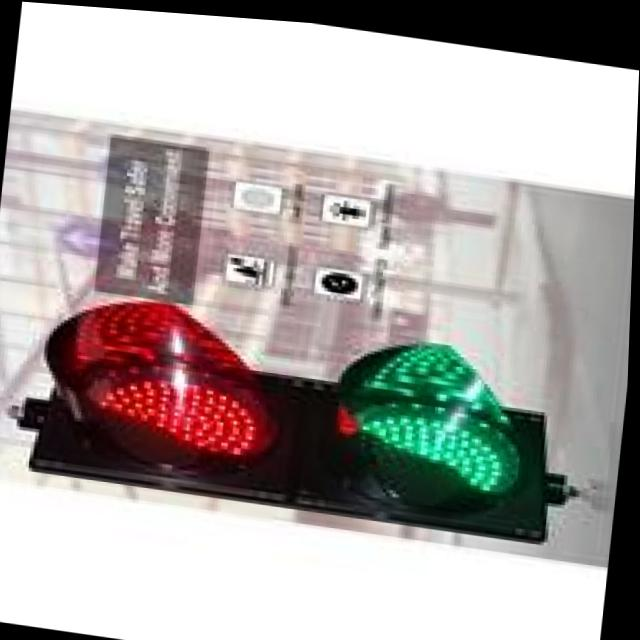green_light: (319, 319, 610, 537)
red_light: (0, 274, 336, 522)
